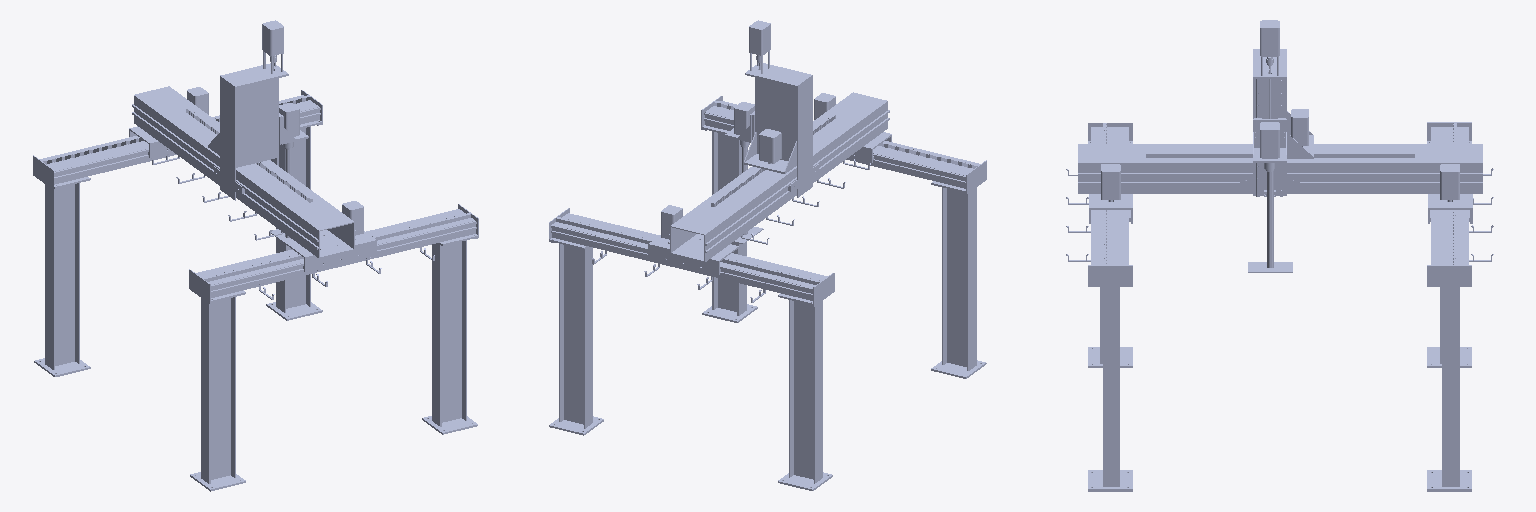
The robot description file, URDF, robot "gantry":
<?xml version="1.0" encoding="utf-8"?>
<!-- This URDF was automatically created by SolidWorks to URDF Exporter! Originally created by [author] ([email redacted]) 
     Commit Version: 1.6.0-1-g15f4949  Build Version: 1.6.7594.29634
     For more information, please see http://wiki.ros.org/sw_urdf_exporter -->
<!--<robot
  name="gantry">
  <link
    name="base_link">
    <inertial>
      <origin
        xyz="0.96371 1.032 1.4293"
        rpy="0 0 0" />
      <mass
        value="18.891" />
      <inertia
        ixx="0.68505"
        ixy="4.644E-15"
        ixz="5.1723E-15"
        iyy="1.4324"
        iyz="-4.7026E-17"
        izz="2.0528" />
    </inertial>
    <visual>
      <origin
        xyz="0 0 0"
        rpy="0 0 0" />
      <geometry>
        <mesh
          filename="package://gantry/meshes/base_link.STL" />
      </geometry>
      <material
        name="">
        <color
          rgba="0.79216 0.81961 0.93333 1" />
      </material>
    </visual>
    <collision>
      <origin
        xyz="0 0 0"
        rpy="0 0 0" />
      <geometry>
        <mesh
          filename="package://gantry/meshes/base_link.STL" />
      </geometry>
    </collision>
  </link>
  <link
    name="X_Motion">
    <inertial>
      <origin
        xyz="0.2743 0.98859 0.047316"
        rpy="0 0 0" />
      <mass
        value="12.196" />
      <inertia
        ixx="1.9209"
        ixy="8.6077E-06"
        ixz="-1.8748E-08"
        iyy="1.9628"
        iyz="4.3927E-15"
        izz="0.060176" />
    </inertial>
    <visual>
      <origin
        xyz="0 0 0"
        rpy="0 0 0" />
      <geometry>
        <mesh
          filename="package://gantry/meshes/X_Motion.STL" />
      </geometry>
      <material
        name="">
        <color
          rgba="0.79216 0.81961 0.93333 1" />
      </material>
    </visual>
    <collision>
      <origin
        xyz="0 0 0"
        rpy="0 0 0" />
      <geometry>
        <mesh
          filename="package://gantry/meshes/X_Motion.STL" />
      </geometry>
    </collision>
  </link>
  <joint
    name="X_Joint"
    type="prismatic">
    <origin
      xyz="-0.3 0.05 0.195"
      rpy="1.5708 0 1.5708" />
    <parent
      link="base_link" />
    <child
      link="X_Motion" />
    <axis
      xyz="0 0 1" />
    <limit
      lower="-0.45"
      upper="0.48"
      effort="20"
      velocity="1" />
  </joint>
  <link
    name="Y_Motion">
    <inertial>
      <origin
        xyz="0.060449 1.3458 0.1606"
        rpy="0 0 0" />
      <mass
        value="5.302" />
      <inertia
        ixx="0.061782"
        ixy="1.534E-08"
        ixz="-3.3824E-14"
        iyy="0.016124"
        iyz="-2.88E-05"
        izz="0.065933" />
    </inertial>
    <visual>
      <origin
        xyz="0 0 0"
        rpy="0 0 0" />
      <geometry>
        <mesh
          filename="package://gantry/meshes/Y_Motion.STL" />
      </geometry>
      <material
        name="">
        <color
          rgba="0.79216 0.81961 0.93333 1" />
      </material>
    </visual>
    <collision>
      <origin
        xyz="0 0 0"
        rpy="0 0 0" />
      <geometry>
        <mesh
          filename="package://gantry/meshes/Y_Motion.STL" />
      </geometry>
    </collision>
  </link>
  <joint
    name="Y_Joint"
    type="prismatic">
    <origin
      xyz="0.1 0 0.21"
      rpy="0 -1.5708 0" />
    <parent
      link="X_Motion" />
    <child
      link="Y_Motion" />
    <axis
      xyz="0 0 1" />
    <limit
      lower="-0.4"
      upper="0.4"
      effort="10"
      velocity="1" />
  </joint>
  <link
    name="Z_Motion">
    <inertial>
      <origin
        xyz="0.241 0.1282 0.0031489"
        rpy="0 0 0" />
      <mass
        value="1.6351" />
      <inertia
        ixx="0.0038426"
        ixy="4.3556E-06"
        ixz="3.0941E-18"
        iyy="0.002377"
        iyz="-1.5732E-18"
        izz="0.0032352" />
    </inertial>
    <visual>
      <origin
        xyz="0 0 0"
        rpy="0 0 0" />
      <geometry>
        <mesh
          filename="package://gantry/meshes/Z_Motion.STL" />
      </geometry>
      <material
        name="">
        <color
          rgba="0.79216 0.81961 0.93333 1" />
      </material>
    </visual>
    <collision>
      <origin
        xyz="0 0 0"
        rpy="0 0 0" />
      <geometry>
        <mesh
          filename="package://gantry/meshes/Z_Motion.STL" />
      </geometry>
    </collision>
  </link>
  <joint
    name="Z_Joint"
    type="prismatic">
    <origin
      xyz="-0.0115 1.1071 0.19185"
      rpy="-1.5708 0 0" />
    <parent
      link="Y_Motion" />
    <child
      link="Z_Motion" />
    <axis
      xyz="0 0 1" />
    <limit
      lower="-0.2"
      upper="0.2"
      effort="5"
      velocity="1" />
  </joint>
  <link
    name="Z_Rot">
    <inertial>
      <origin
        xyz="2.9681E-06 -0.2854 -7.323E-05"
        rpy="0 0 0" />
      <mass
        value="0.45277" />
      <inertia
        ixx="0.0077144"
        ixy="1.8825E-18"
        ixz="1.0049E-05"
        iyy="0.00045474"
        iyz="-2.4954E-17"
        izz="0.0074669" />
    </inertial>
    <visual>
      <origin
        xyz="0 0 0"
        rpy="0 0 0" />
      <geometry>
        <mesh
          filename="package://gantry/meshes/Z_Rot.STL" />
      </geometry>
      <material
        name="">
        <color
          rgba="0.79216 0.81961 0.93333 1" />
      </material>
    </visual>
    <collision>
      <origin
        xyz="0 0 0"
        rpy="0 0 0" />
      <geometry>
        <mesh
          filename="package://gantry/meshes/Z_Rot.STL" />
      </geometry>
    </collision>
  </link>
  <joint
    name="Z_Rot_Joint"
    type="revolute">
    <origin
      xyz="0.25743 0 0.0031492"
      rpy="0 0 0" />
    <parent
      link="Z_Motion" />
    <child
      link="Z_Rot" />
    <axis
      xyz="0 0 1" />
    <limit
      lower="-3.14"
      upper="3.14"
      effort="5"
      velocity="1" />
  </joint>
  <link
    name="Cup">
    <inertial>
      <origin
        xyz="-2.6593E-06 5.7892E-06 0.0070718"
        rpy="0 0 0" />
      <mass
        value="0.0020128" />
      <inertia
        ixx="6.7515E-08"
        ixy="-2.2805E-12"
        ixz="1.831E-12"
        iyy="6.7541E-08"
        iyz="-9.4715E-13"
        izz="6.9139E-08" />
    </inertial>
    <visual>
      <origin
        xyz="0 0 0"
        rpy="0 0 0" />
      <geometry>
        <mesh
          filename="package://gantry/meshes/Cup.STL" />
      </geometry>
      <material
        name="">
        <color
          rgba="0.79216 0.81961 0.93333 1" />
      </material>
    </visual>
    <collision>
      <origin
        xyz="0 0 0"
        rpy="0 0 0" />
      <geometry>
        <mesh
          filename="package://gantry/meshes/Cup.STL" />
      </geometry>
    </collision>
  </link>
  <joint
    name="Cup_Joint"
    type="fixed">
    <origin
      xyz="-0.0 -0.05 -0.48"
      rpy="3.1416 -0.0 0" />
    <parent
      link="Z_Rot" />
    <child
      link="Cup" />
    <axis
      xyz="0 0 1" />
  </joint>
</robot>-->


<!-- This URDF was automatically created by SolidWorks to URDF Exporter! Originally created by [author] ([email redacted]) 
     Commit Version: 1.6.0-1-g15f4949  Build Version: 1.6.7594.29634
     For more information, please see http://wiki.ros.org/sw_urdf_exporter -->
<robot name="gantry">

    <link name="world" />
    <joint name="Fix_Joint" type="fixed">
        <origin xyz="-0.0 0.00 0.0" rpy="0 0 0" />
        <parent link="world" />
        <child link="base_link" />
        <axis xyz="0 0 1" />
    </joint>
    <link name="base_link">
        
<inertial>
            <origin xyz="0.96371 1.032 1.4293" rpy="0 0 0" />
            <mass value="18.891" />
            <inertia ixx="0.68505" ixy="4.644E-15" ixz="5.1723E-15" iyy="1.4324" iyz="-4.7026E-17" izz="2.0528" />
        </inertial>

        <visual>
            <origin xyz="0 0 0" rpy="0 0 0" />
            <geometry>
                <mesh filename="package://gantry/meshes/base_link.STL" />
            </geometry>
            <material name="">
                <color rgba="0.79216 0.81961 0.93333 1" />
            </material>
        </visual>
        <collision>
            <origin xyz="0 0 0" rpy="0 0 0" />
            <geometry>
                <mesh filename="package://gantry/meshes/base_link.STL" />
            </geometry>
        </collision>
    </link>
    <link name="X_Motion">
        
<inertial>
            <origin xyz="0.2743 0.98859 0.047316" rpy="0 0 0" />
            <mass value="12.196" />
            <inertia ixx="1.9209" ixy="8.6077E-06" ixz="-1.8748E-08" iyy="1.9628" iyz="4.3927E-15" izz="0.060176" />
        </inertial>

        <visual>
            <origin xyz="0 0 0" rpy="0 0 0" />
            <geometry>
                <mesh filename="package://gantry/meshes/X_Motion.STL" />
            </geometry>
            <material name="">
                <color rgba="0.79216 0.81961 0.93333 1" />
            </material>
        </visual>
        <collision>
            <origin xyz="0 0 0" rpy="0 0 0" />
            <geometry>
                <mesh filename="package://gantry/meshes/X_Motion.STL" />
            </geometry>
        </collision>
    </link>
    <joint name="X_Joint" type="prismatic">
        <origin xyz="-0.3 0.05 0.195" rpy="1.5708 0 1.5708" />
        <parent link="base_link" />
        <child link="X_Motion" />
        <axis xyz="0 0 1" />
        <limit lower="-0.45" upper="0.48" effort="20" velocity="1" />
    </joint>
    <link name="Y_Motion">
        
<inertial>
            <origin xyz="0.060449 1.3458 0.1606" rpy="0 0 0" />
            <mass value="5.302" />
            <inertia ixx="0.061782" ixy="1.534E-08" ixz="-3.3824E-14" iyy="0.016124" iyz="-2.88E-05" izz="0.065933" />
        </inertial>

        <visual>
            <origin xyz="0 0 0" rpy="0 0 0" />
            <geometry>
                <mesh filename="package://gantry/meshes/Y_Motion.STL" />
            </geometry>
            <material name="">
                <color rgba="0.79216 0.81961 0.93333 1" />
            </material>
        </visual>
        <collision>
            <origin xyz="0 0 0" rpy="0 0 0" />
            <geometry>
                <mesh filename="package://gantry/meshes/Y_Motion.STL" />
            </geometry>
        </collision>
    </link>
    <joint name="Y_Joint" type="prismatic">
        <origin xyz="0.1 0 0.21" rpy="0 -1.5708 0" />
        <parent link="X_Motion" />
        <child link="Y_Motion" />
        <axis xyz="0 0 1" />
        <limit lower="-0.4" upper="0.4" effort="10" velocity="1" />
    </joint>
    <link name="Z_Motion">
        
<inertial>
            <origin xyz="0.241 0.1282 0.0031489" rpy="0 0 0" />
            <mass value="1.0351" />
            <inertia ixx="0.0038426" ixy="4.3556E-06" ixz="3.0941E-18" iyy="0.002377" iyz="-1.5732E-18" izz="0.0032352" />
        </inertial>

        <visual>
            <origin xyz="0 0 0" rpy="0 0 0" />
            <geometry>
                <mesh filename="package://gantry/meshes/Z_Motion.STL" />
            </geometry>
            <material name="">
                <color rgba="0.79216 0.81961 0.93333 1" />
            </material>
        </visual>
        <collision>
            <origin xyz="0 0 0" rpy="0 0 0" />
            <geometry>
                <mesh filename="package://gantry/meshes/Z_Motion.STL" />
            </geometry>
        </collision>
    </link>
    <joint name="Z_Joint" type="prismatic">
        <origin xyz="-0.0115 1.1071 0.19185" rpy="-1.5708 0 0" />
        <parent link="Y_Motion" />
        <child link="Z_Motion" />
        <axis xyz="0 0 1" />
        <limit lower="-0.2" upper="0.2" effort="50" velocity="1" />
    </joint>
    <link name="Z_Rot">
        
<inertial>
            <origin xyz="2.9681E-06 -0.2854 -7.323E-05" rpy="0 0 0" />
            <mass value="0.15277" />
            <inertia ixx="0.0077144" ixy="1.8825E-18" ixz="1.0049E-05" iyy="0.00045474" iyz="-2.4954E-17" izz="0.0074669" />
        </inertial>

        <visual>
            <origin xyz="0 0 0" rpy="0 0 0" />
            <geometry>
                <mesh filename="package://gantry/meshes/Z_Rot.STL" />
            </geometry>
            <material name="">
                <color rgba="0.79216 0.81961 0.93333 1" />
            </material>
        </visual>
        <collision>
            <origin xyz="0 0 0" rpy="0 0 0" />
            <geometry>
                <mesh filename="package://gantry/meshes/Z_Rot.STL" />
            </geometry>
        </collision>
    </link>
    <joint name="Z_Rot_Joint" type="revolute">
        <origin xyz="0.25743 0 0.0031492" rpy="0 0 0" />
        <parent link="Z_Motion" />
        <child link="Z_Rot" />
        <axis xyz="0 0 1" />
        <limit lower="-3.14" upper="3.14" effort="5" velocity="1" />
    </joint>
    <link name="Cup">
        
<inertial>
            <origin xyz="-2.6593E-06 5.7892E-06 0.0070718" rpy="0 0 0" />
            <mass value="0.0020128" />
            <inertia ixx="6.7515E-08" ixy="-2.2805E-12" ixz="1.831E-12" iyy="6.7541E-08" iyz="-9.4715E-13" izz="6.9139E-08" />
        </inertial>

        <visual>
            <origin xyz="0 0 0" rpy="0 0 0" />
            <geometry>
                <mesh filename="package://gantry/meshes/Cup.STL" />
            </geometry>
            <material name="">
                <color rgba="0.79216 0.81961 0.93333 1" />
            </material>
        </visual>
        <collision>
            <origin xyz="0 0 0" rpy="0 0 0" />
            <geometry>
                <mesh filename="package://gantry/meshes/Cup.STL" />
            </geometry>
        </collision>
    </link>
    <joint name="Cup_Joint" type="fixed">
        <origin xyz="-0.0 -0.05 -0.48" rpy="3.1416 -0.0 0" />
        <parent link="Z_Rot" />
        <child link="Cup" />
        <axis xyz="0 0 1" />
    </joint>
    
<transmission name="trans_X_Joint">
        <type>transmission_interface/SimpleTransmission</type>
        <joint name="X_Joint">
            <hardwareInterface>hardware_interface/PositionJointInterface</hardwareInterface>
        </joint>
        <actuator name="X_Joint_motor">
            <hardwareInterface>hardware_interface/PositionJointInterface</hardwareInterface>
            <mechanicalReduction>1</mechanicalReduction>
        </actuator>
    </transmission>
    <transmission name="trans_Y_Joint">
        <type>transmission_interface/SimpleTransmission</type>
        <joint name="Y_Joint">
            <hardwareInterface>hardware_interface/PositionJointInterface</hardwareInterface>
        </joint>
        <actuator name="Y_Joint_motor">
            <hardwareInterface>hardware_interface/PositionJointInterface</hardwareInterface>
            <mechanicalReduction>1</mechanicalReduction>
        </actuator>
    </transmission>
    <transmission name="trans_Z_Joint">
        <type>transmission_interface/SimpleTransmission</type>
        <joint name="Z_Joint">
            <hardwareInterface>hardware_interface/PositionJointInterface</hardwareInterface>
        </joint>
        <actuator name="Z_Joint_motor">
            <hardwareInterface>hardware_interface/PositionJointInterface</hardwareInterface>
            <mechanicalReduction>1</mechanicalReduction>
        </actuator>
    </transmission>
    <transmission name="trans_Z_Rot_Joint">
        <type>transmission_interface/SimpleTransmission</type>
        <joint name="Z_Rot_Joint">
            <hardwareInterface>hardware_interface/PositionJointInterface</hardwareInterface>
        </joint>
        <actuator name="Z_Rot_Joint_motor">
            <hardwareInterface>hardware_interface/PositionJointInterface</hardwareInterface>
            <mechanicalReduction>1</mechanicalReduction>
        </actuator>
    </transmission>
    <gazebo>
        <plugin name="gazebo_ros_control" filename="libgazebo_ros_control.so">
            <robotNamespace>/</robotNamespace>
        </plugin>
    </gazebo>

</robot>









<!-- END -->

--- Render facts (derived) ---
Views: 3 orthographic renders of the robot side by side, from view 1: azimuth 30°, elevation 25°; view 2: azimuth 150°, elevation 25°; view 3: azimuth 270°, elevation 25°.
Model gantry with 7 links and 6 joints (1 revolute, 3 prismatic, 2 fixed), rooted at world, posed every joint at zero.
Links seen in each view (by area): view 1: base_link, X_Motion, Y_Motion, Z_Motion; view 2: base_link, X_Motion, Y_Motion, Z_Motion; view 3: X_Motion, base_link, Y_Motion, Z_Motion, Z_Rot.
Link boxes in pixels (x1,y1,x2,y2): base_link: (33, 90, 478, 491); X_Motion: (129, 86, 376, 271); Y_Motion: (208, 20, 288, 200); Z_Motion: (279, 103, 308, 149); base_link: (549, 96, 986, 490); X_Motion: (648, 92, 891, 275); Y_Motion: (744, 20, 818, 197); Z_Motion: (725, 102, 754, 147); X_Motion: (1078, 144, 1482, 223); base_link: (1066, 122, 1493, 491); Y_Motion: (1240, 20, 1313, 196); Z_Motion: (1253, 118, 1286, 171); Z_Rot: (1248, 171, 1292, 272).
Size in the robot's own frame: 1.51 by 1.9 by 1.98 metres.
Meshes: 6 distinct files referenced, 6 mesh visuals loaded (6 binary STL).